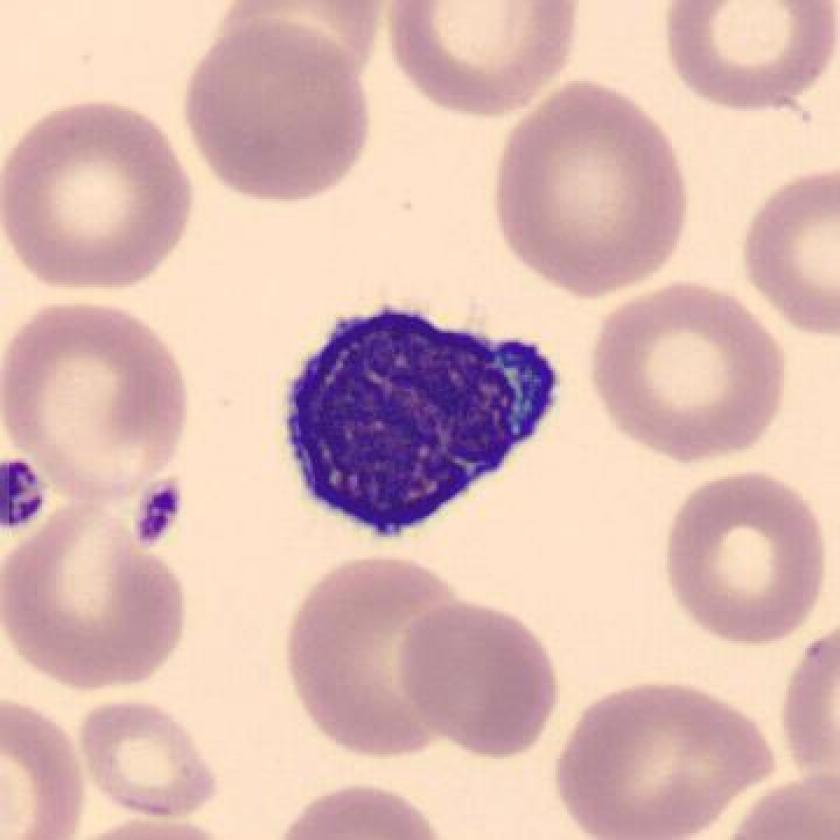lymphocyte: (263, 284, 571, 557)
